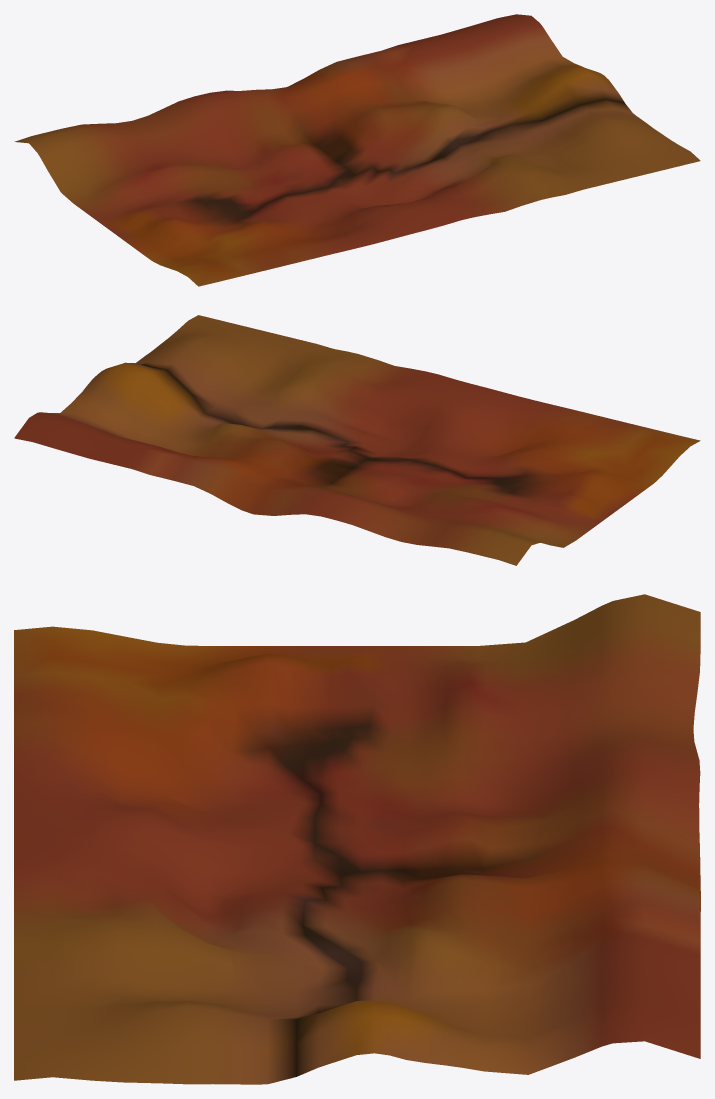
File: MS_Terrain.fbx
3 renders of one model, top to bottom at view 1: azimuth 30°, elevation 25°; view 2: azimuth 150°, elevation 25°; view 3: azimuth 270°, elevation 25°, orthographic. The views are drawn at different scales.
Parts seen in each view (by area): view 1: Plane; view 2: Plane; view 3: Plane.
Part boxes in pixels (left/top/right/bottom): Plane: left=14, top=14, right=700, bottom=286; Plane: left=14, top=315, right=700, bottom=565; Plane: left=14, top=594, right=700, bottom=1084.
Bounding box in the file's own units: 9132 × 884 × 5796.
